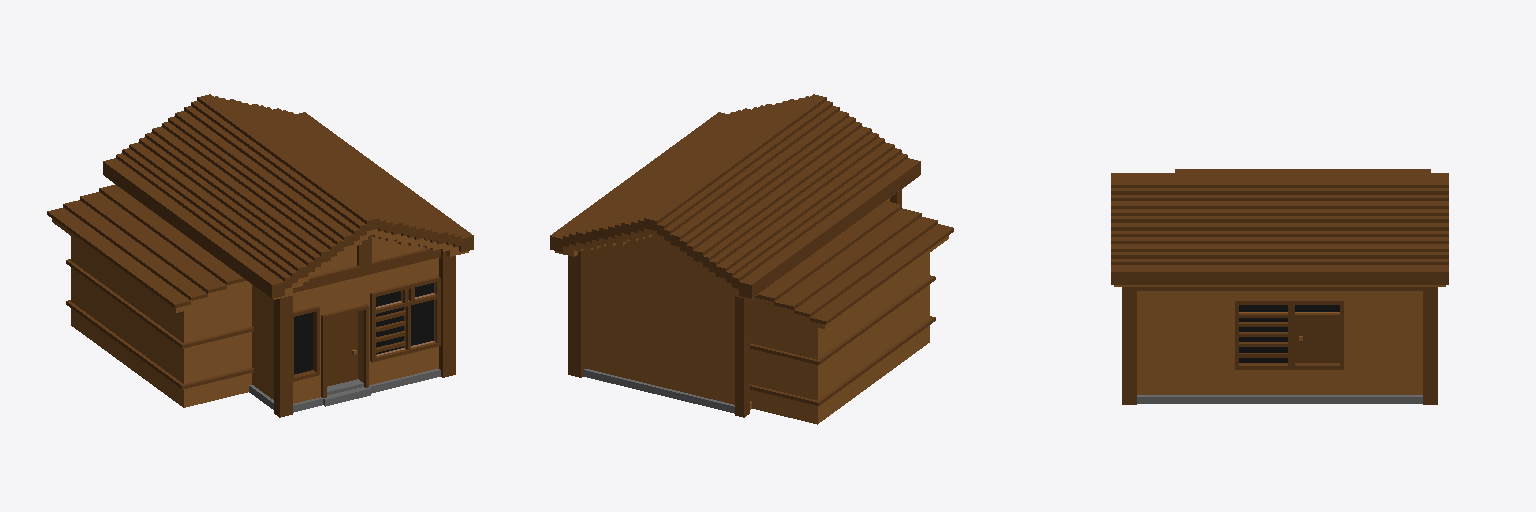
3 views of the same model, side by side, from view 1: azimuth 30°, elevation 25°; view 2: azimuth 150°, elevation 25°; view 3: azimuth 270°, elevation 25° (orthographic).
Parts seen in each view (by area): view 1: object 1; view 2: object 1; view 3: object 1.
Part boxes in pixels (x1,y1,x2,y2): object 1: (47,94,473,417); object 1: (550,94,953,424); object 1: (1111,169,1448,404).
Bounding box in the file's own units: 8.2 × 5.3 × 9.
1 materials, 1 textured.